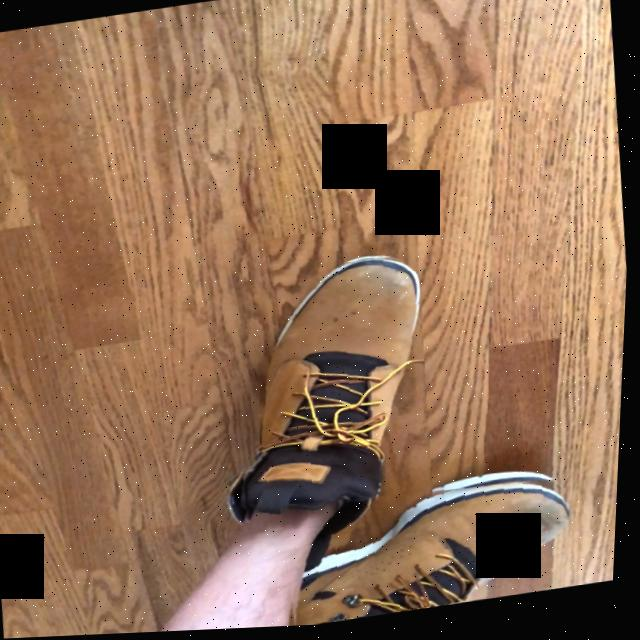shoe: (250, 262, 423, 526), (299, 486, 576, 629)
